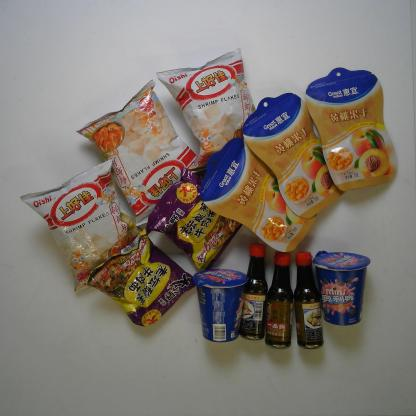Dessert: (312, 250, 371, 326), (192, 268, 250, 344)
Dried Fruit: (199, 136, 317, 254), (241, 91, 346, 222), (304, 66, 398, 193)
Instant Noodles: (84, 228, 197, 328), (146, 167, 244, 272)
Puffed Food: (75, 78, 198, 226), (19, 158, 144, 294), (156, 46, 256, 173)
Seasoner: (237, 242, 269, 341), (293, 251, 324, 350), (264, 250, 294, 350)
